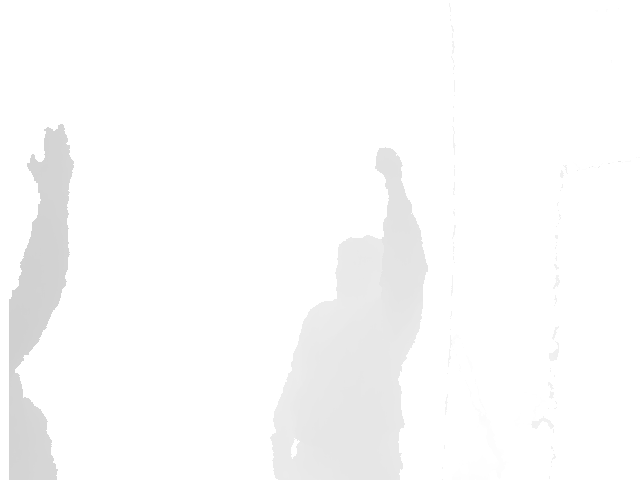hand: (27, 123, 74, 197), (374, 147, 404, 202)
head: (336, 234, 391, 314)
person: (268, 146, 430, 480), (9, 123, 75, 480)
